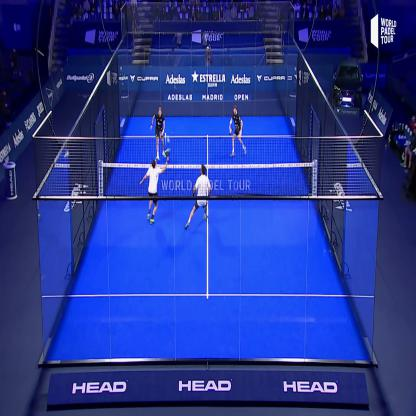ball: (165, 132, 174, 148)
